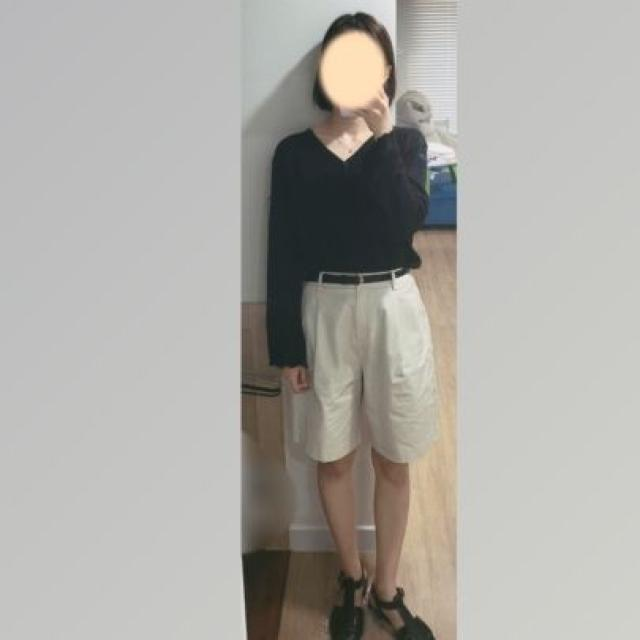longsleeve: (266, 116, 427, 370)
shortpants: (293, 268, 447, 467)
